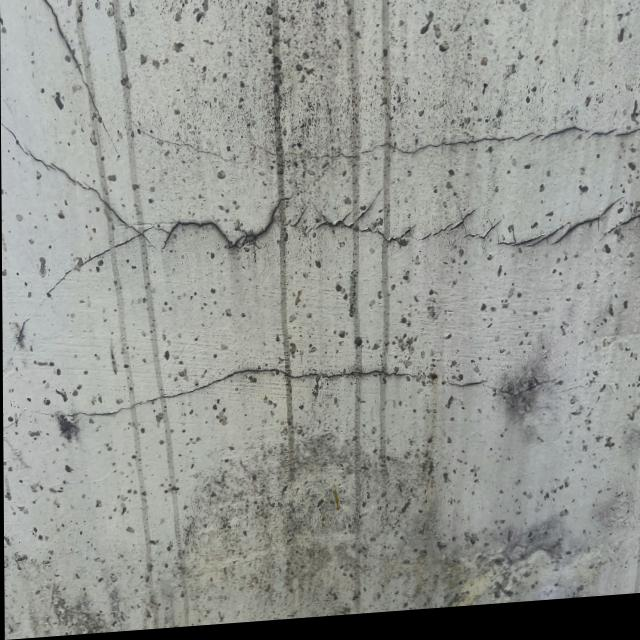crack: (1, 125, 633, 257), (39, 345, 531, 430), (131, 109, 640, 167), (33, 0, 122, 161)
